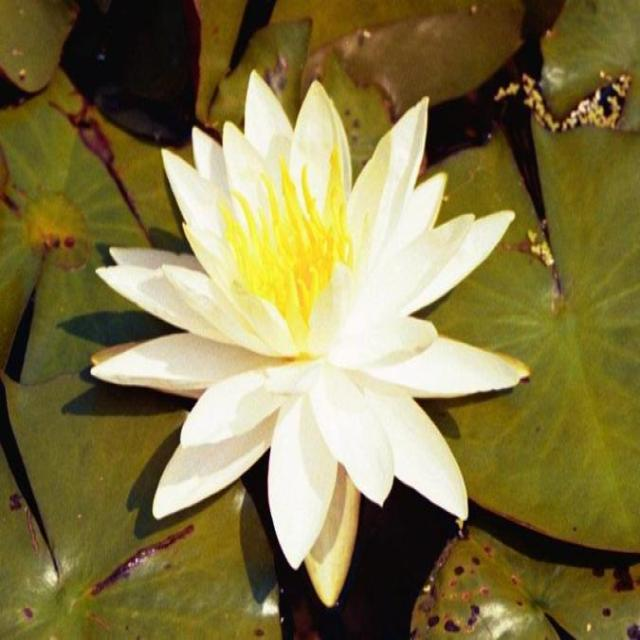rose: (41, 40, 589, 597)
